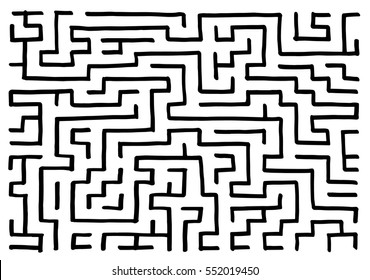maze: (6, 9, 359, 252)
